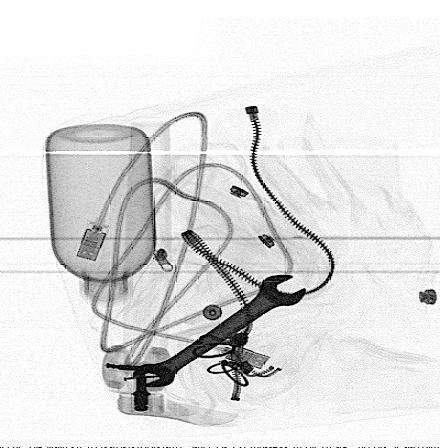Wrench: (133, 274, 307, 388)
